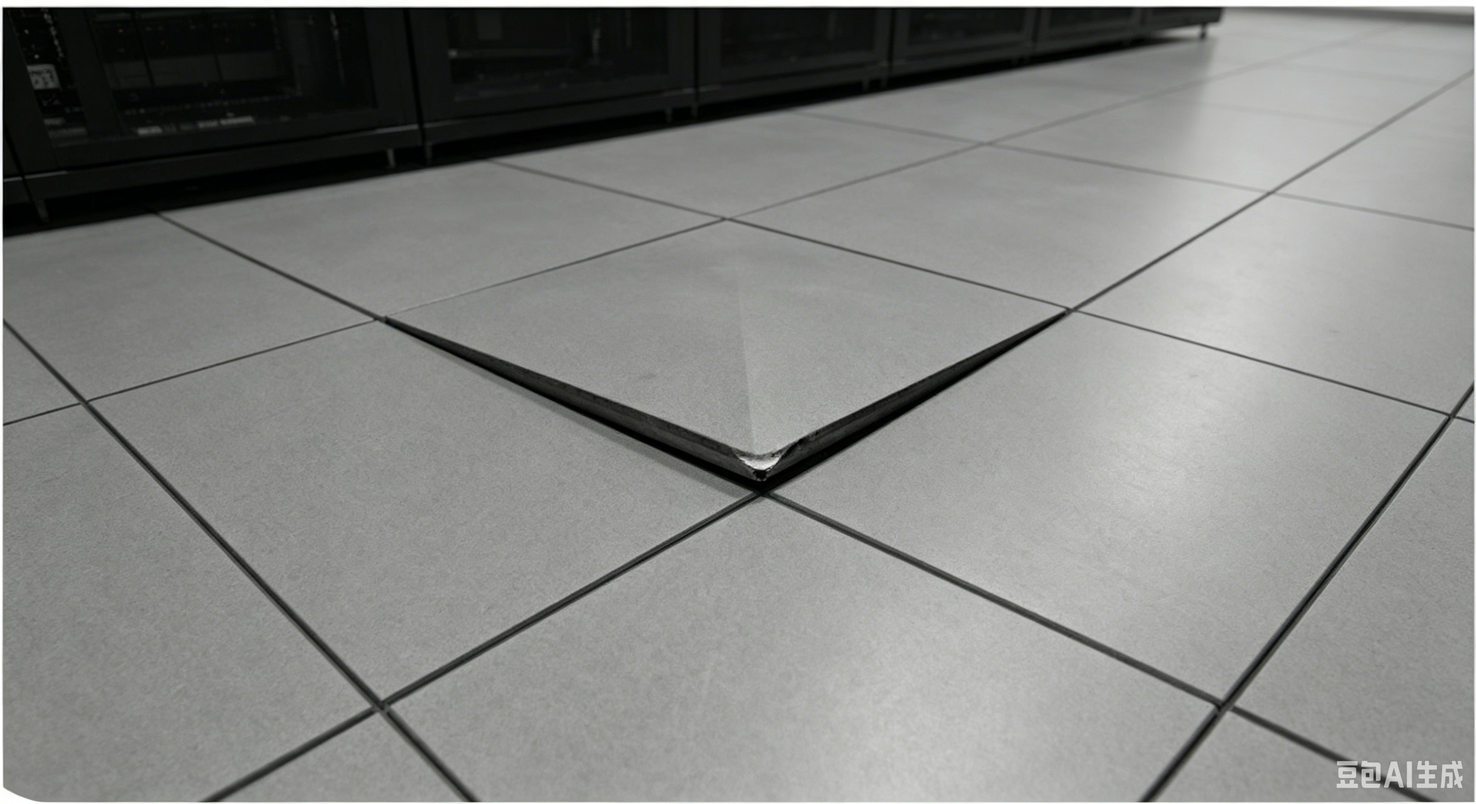floor_defect: (399, 316, 773, 508), (777, 371, 958, 497), (932, 299, 1069, 383)
